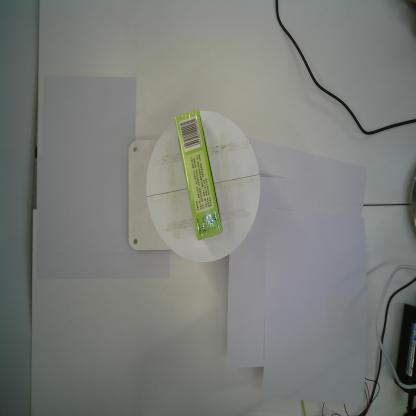Instant Drink: (175, 110, 223, 242)
